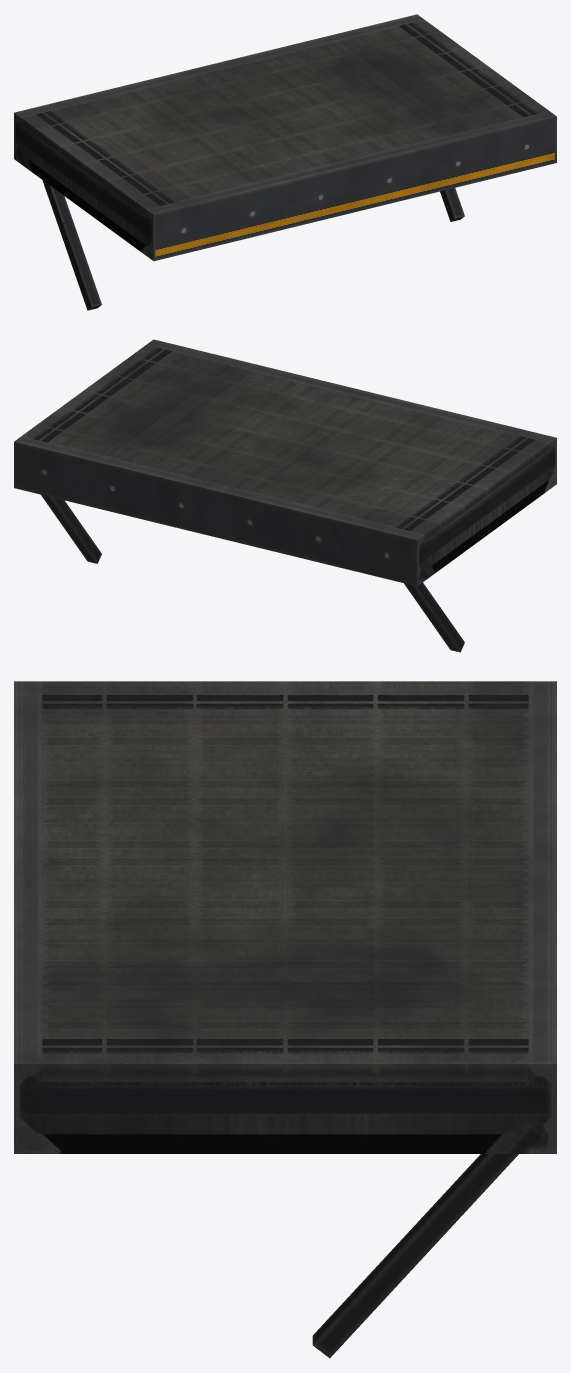
Rendered from catwalk.glb.
3 renders of one model, top to bottom at view 1: azimuth 30°, elevation 25°; view 2: azimuth 150°, elevation 25°; view 3: azimuth 270°, elevation 25°, orthographic. The views are drawn at different scales.
Parts seen in each view (by area): view 1: catwalk; view 2: catwalk; view 3: catwalk.
Boxes of the visible parts, left/top/right/bottom form: catwalk: left=14, top=14, right=556, bottom=310; catwalk: left=14, top=339, right=556, bottom=652; catwalk: left=14, top=681, right=556, bottom=1358.
Size of the model in its own units: 2 by 0.7533 by 1.2.
1 material, 1 textured.
